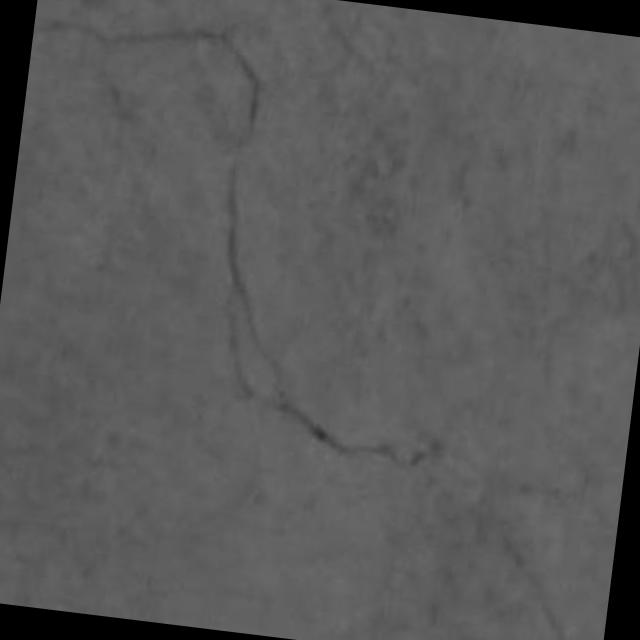crack: (34, 18, 441, 467), (500, 528, 569, 639)
